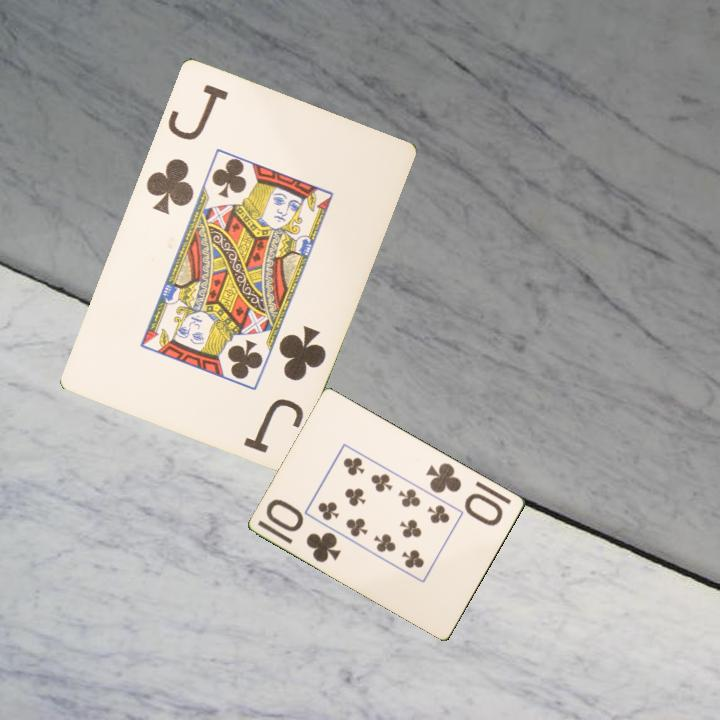10c: (422, 459, 506, 529), (263, 496, 345, 566)
Jc: (239, 321, 329, 456), (142, 80, 231, 216)
